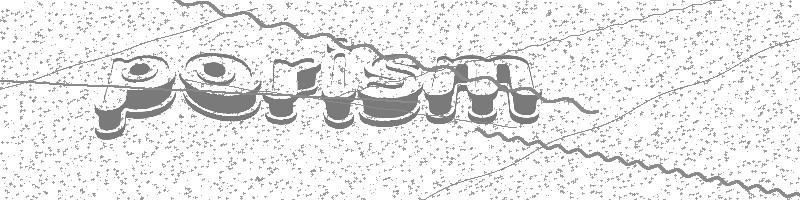i: (321, 37, 357, 130)
m: (423, 54, 541, 125)
o: (178, 52, 262, 122)
p: (94, 54, 177, 142)
r: (263, 57, 321, 125)
s: (358, 54, 422, 128)
